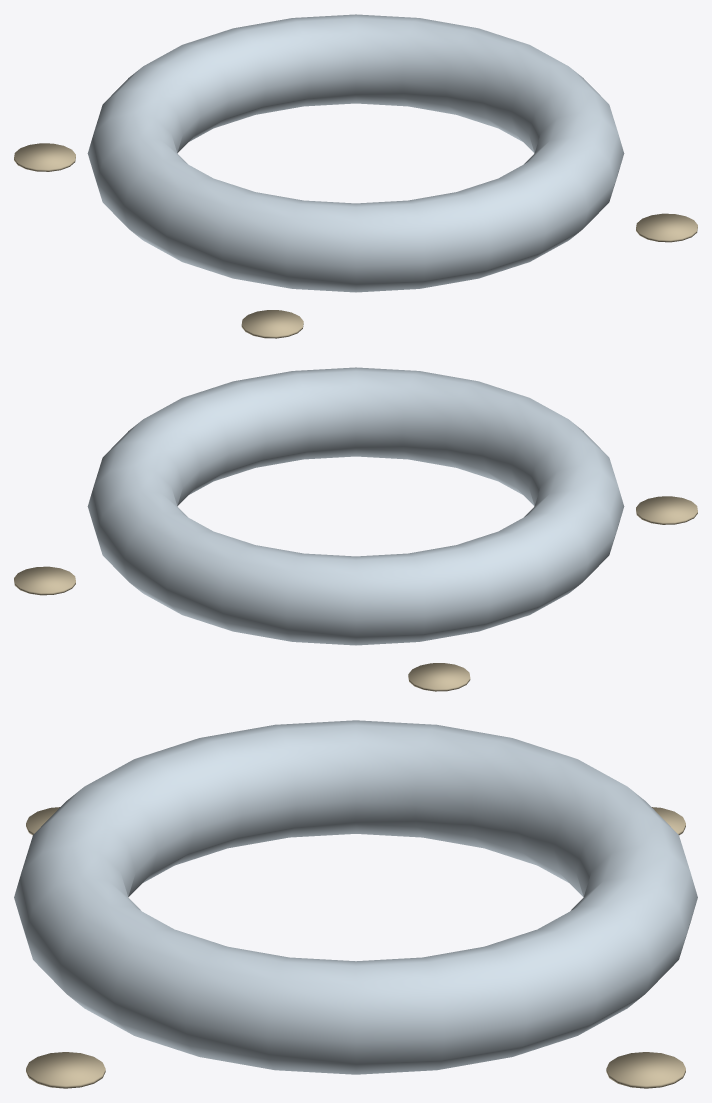
The model's file is valve.glb.
3 views of the same model, one above another, from view 1: azimuth 30°, elevation 25°; view 2: azimuth 150°, elevation 25°; view 3: azimuth 270°, elevation 25° (orthographic). The views are drawn at different scales.
Parts seen in each view (by area): view 1: Valve_Ring, Valve_Bolts; view 2: Valve_Ring, Valve_Bolts; view 3: Valve_Ring, Valve_Bolts.
Boxes of the visible parts, x1=… form: Valve_Ring: x1=87, y1=14, x2=624, y2=292; Valve_Bolts: x1=14, y1=143, x2=697, y2=338; Valve_Ring: x1=87, y1=367, x2=624, y2=645; Valve_Bolts: x1=14, y1=496, x2=697, y2=691; Valve_Ring: x1=14, y1=720, x2=697, y2=1074; Valve_Bolts: x1=26, y1=807, x2=685, y2=1088.
Size of the model in its own units: 0.6 by 0.1 by 0.6.
